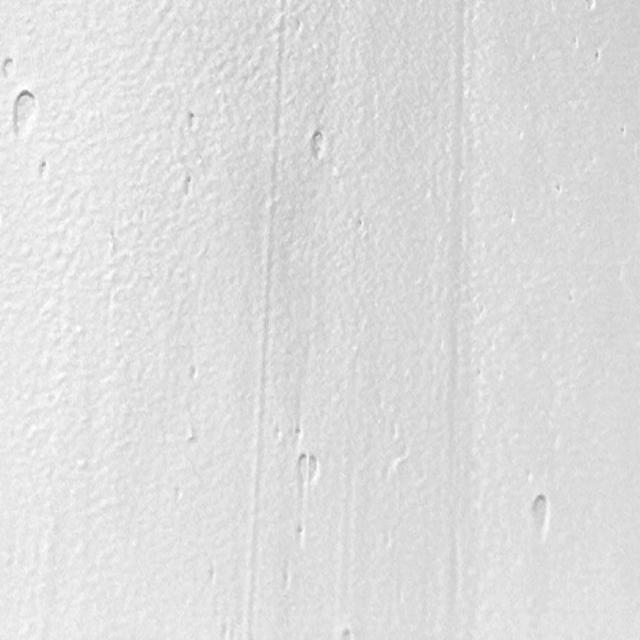pin holes: (10, 89, 42, 139), (529, 492, 555, 533), (294, 451, 320, 484), (308, 128, 328, 162), (0, 55, 18, 80), (180, 173, 197, 199), (34, 156, 51, 181), (293, 522, 309, 547), (280, 570, 294, 593), (186, 110, 200, 132), (186, 431, 203, 448), (187, 366, 202, 385), (338, 626, 356, 640), (584, 0, 600, 13), (552, 181, 565, 197), (617, 123, 629, 139), (592, 48, 603, 64), (293, 426, 304, 442)
